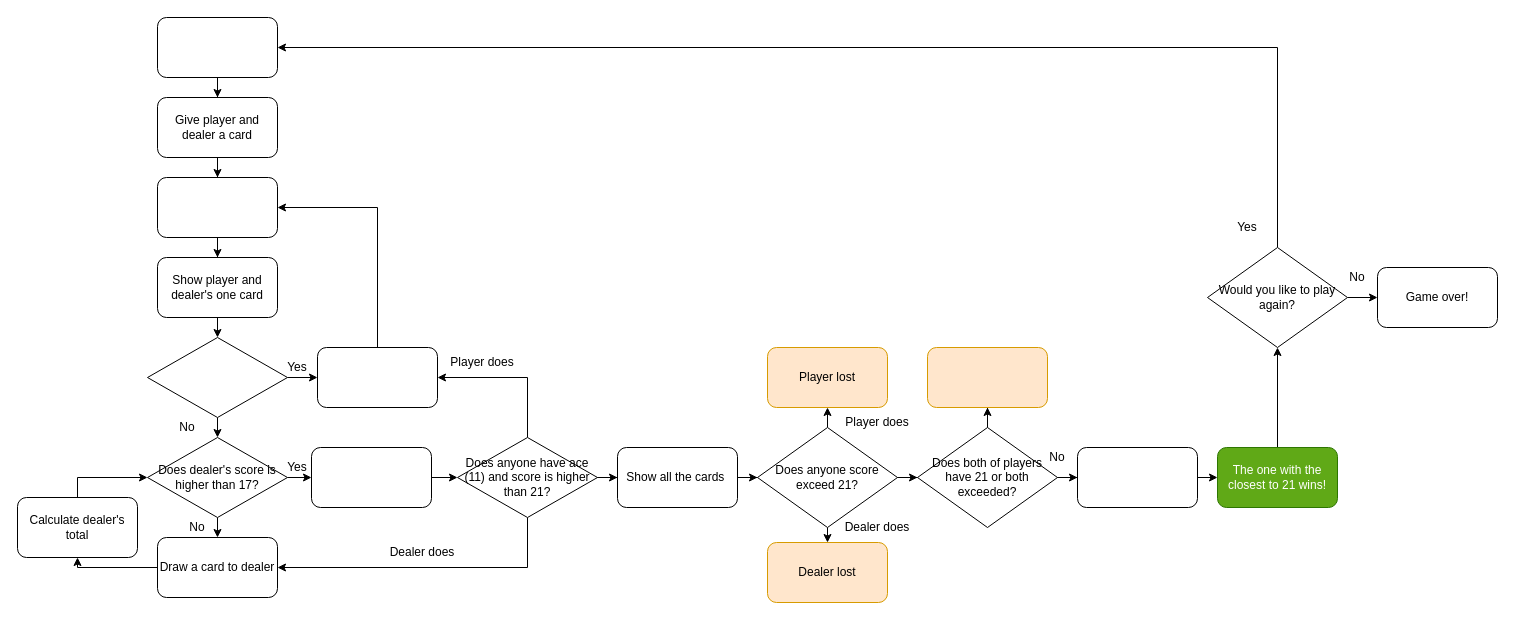
Image size: 1515x620. Some labels were removed from this diagram. Each missing label, with the centre of its shape:
"Calculate the total score of both players" goes at point (217, 207).
"Calculate total score of both decks" goes at point (371, 477).
"Calculate which score is closer to 21" goes at point (1137, 477).
"Do you want to draw another card?" goes at point (217, 377).
"Draw" goes at point (987, 377).
"Draw another card" goes at point (377, 377).
"Game starts" goes at point (217, 47).
